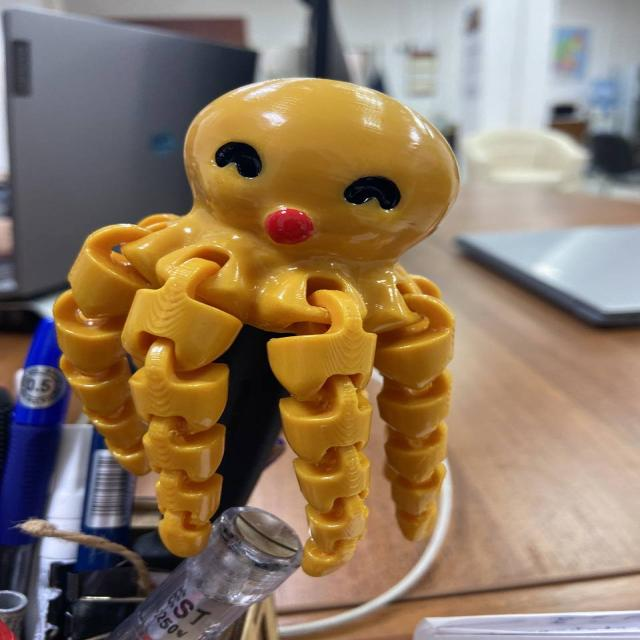Without deffect: (31, 60, 499, 596)
